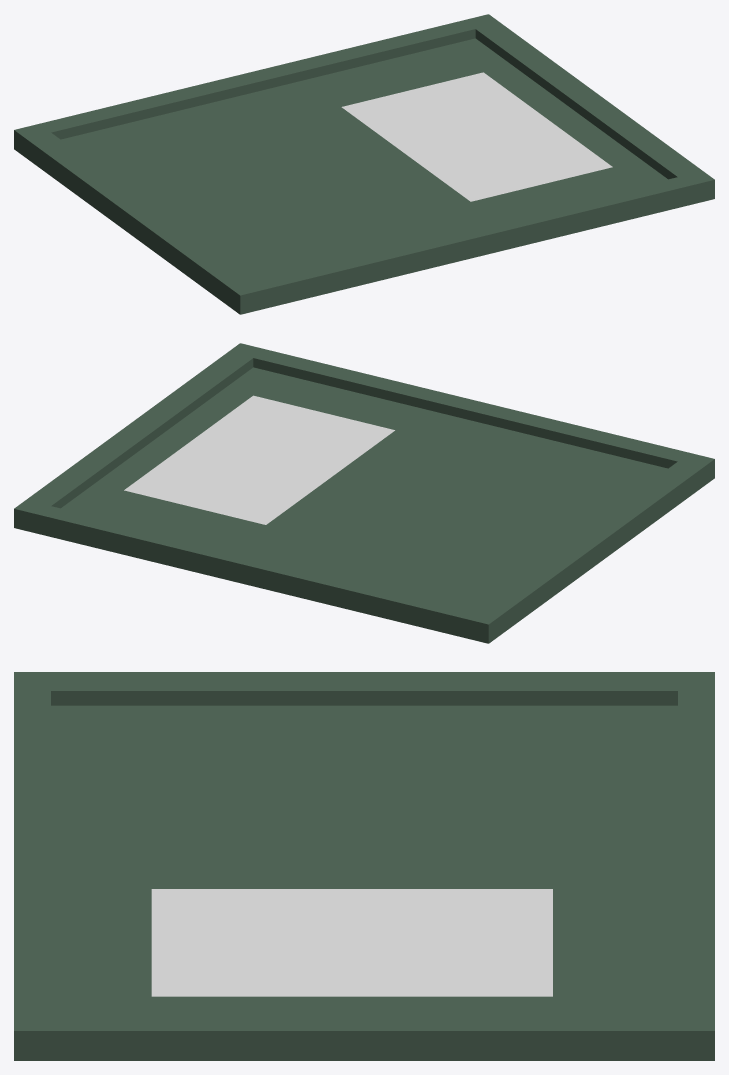
Rendered from paperTray.glb.
3 views of the same model, one above another, from view 1: azimuth 30°, elevation 25°; view 2: azimuth 150°, elevation 25°; view 3: azimuth 270°, elevation 25° (orthographic). The views are drawn at different scales.
Visible parts, largest first — view 1: paper-bin, paper; view 2: paper-bin, paper; view 3: paper-bin, paper.
Part boxes in pixels (x1,y1,x2,y2): paper-bin: [14, 14, 714, 314]; paper: [341, 72, 612, 201]; paper-bin: [14, 343, 714, 643]; paper: [124, 395, 394, 524]; paper-bin: [14, 672, 714, 1060]; paper: [151, 889, 552, 996].
Bounding box in the file's own units: 7.73 × 0.3004 × 6.38.
